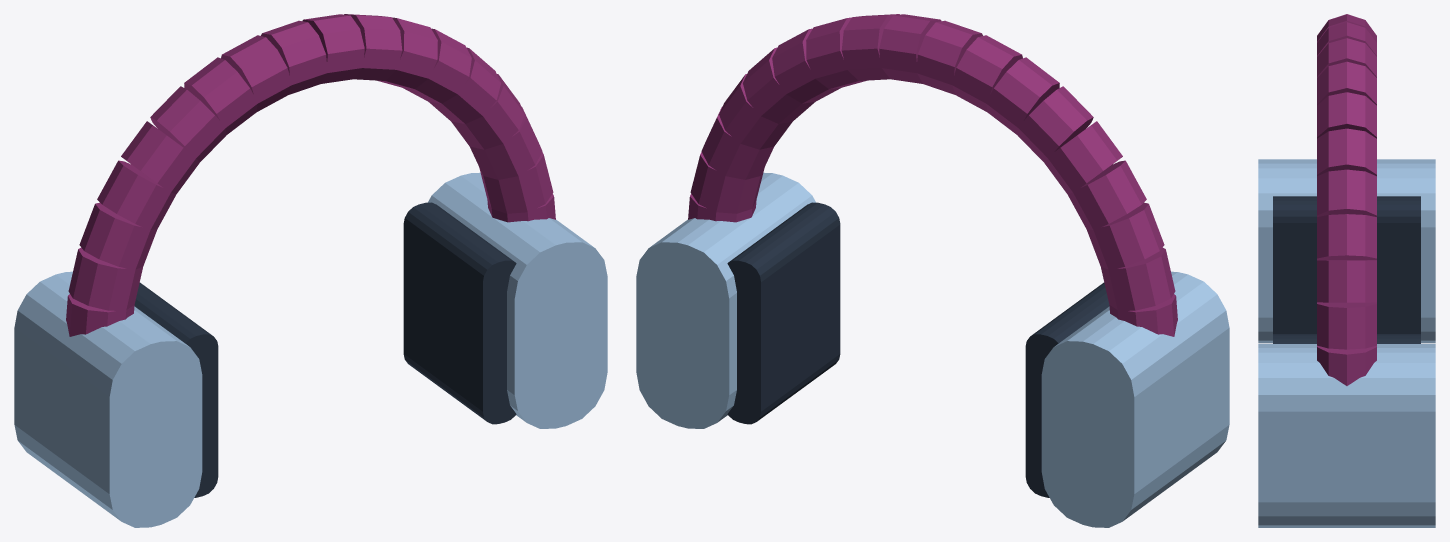
The model's file is headphones.glb.
The picture shows the model from 3 angles, left to right: view 1: azimuth 30°, elevation 25°; view 2: azimuth 150°, elevation 25°; view 3: azimuth 270°, elevation 25°; orthographic projection. The views are drawn at different scales.
Parts seen in each view (by area): view 1: left cup, right cup, right pad, left pad, headband15, headband14, headband12, headband16, headband11, headband13, headband10, headband9 (+10 smaller); view 2: left cup, right cup, right pad, left pad, headband15, headband14, headband12, headband16, headband11, headband13, headband10, headband9 (+10 smaller); view 3: right cup, left pad, left cup, headband1, headband3, headband4, headband2, headband5, headband6, headband7, headband0, headband8 (+3 smaller).
Part boxes in pixels (left/top/right/bottom): left cup: left=14, top=271, right=202, bottom=527; right cup: left=428, top=172, right=607, bottom=428; right pad: left=403, top=202, right=516, bottom=424; left pad: left=134, top=282, right=218, bottom=497; headband15: left=79, top=202, right=156, bottom=269; headband14: left=97, top=160, right=176, bottom=230; headband12: left=150, top=86, right=226, bottom=162; headband16: left=68, top=247, right=142, bottom=310; headband11: left=184, top=57, right=257, bottom=134; headband13: left=121, top=121, right=199, bottom=194; headband10: left=221, top=35, right=292, bottom=111; headband9: left=261, top=20, right=327, bottom=94; left cup: left=1041, top=271, right=1229, bottom=527; right cup: left=636, top=172, right=815, bottom=428; right pad: left=727, top=202, right=840, bottom=424; left pad: left=1025, top=282, right=1109, bottom=497; headband15: left=1087, top=202, right=1164, bottom=270; headband14: left=1067, top=160, right=1146, bottom=230; headband12: left=1017, top=86, right=1093, bottom=162; headband16: left=1101, top=247, right=1175, bottom=310; headband11: left=986, top=57, right=1059, bottom=134; headband13: left=1044, top=121, right=1122, bottom=194; headband10: left=951, top=35, right=1022, bottom=111; headband9: left=917, top=20, right=982, bottom=94; right cup: left=1258, top=344, right=1435, bottom=527; left pad: left=1273, top=196, right=1420, bottom=333; left cup: left=1258, top=159, right=1435, bottom=343; headband1: left=1317, top=302, right=1376, bottom=349; headband3: left=1317, top=214, right=1376, bottom=259; headband4: left=1317, top=169, right=1376, bottom=216; headband2: left=1317, top=260, right=1376, bottom=302; headband5: left=1317, top=128, right=1376, bottom=176; headband6: left=1317, top=92, right=1376, bottom=138; headband7: left=1317, top=61, right=1376, bottom=105; headband0: left=1317, top=345, right=1376, bottom=385; headband8: left=1317, top=38, right=1376, bottom=77.
Bounding box in the file's own units: 1.45 × 1.17 × 0.48.
